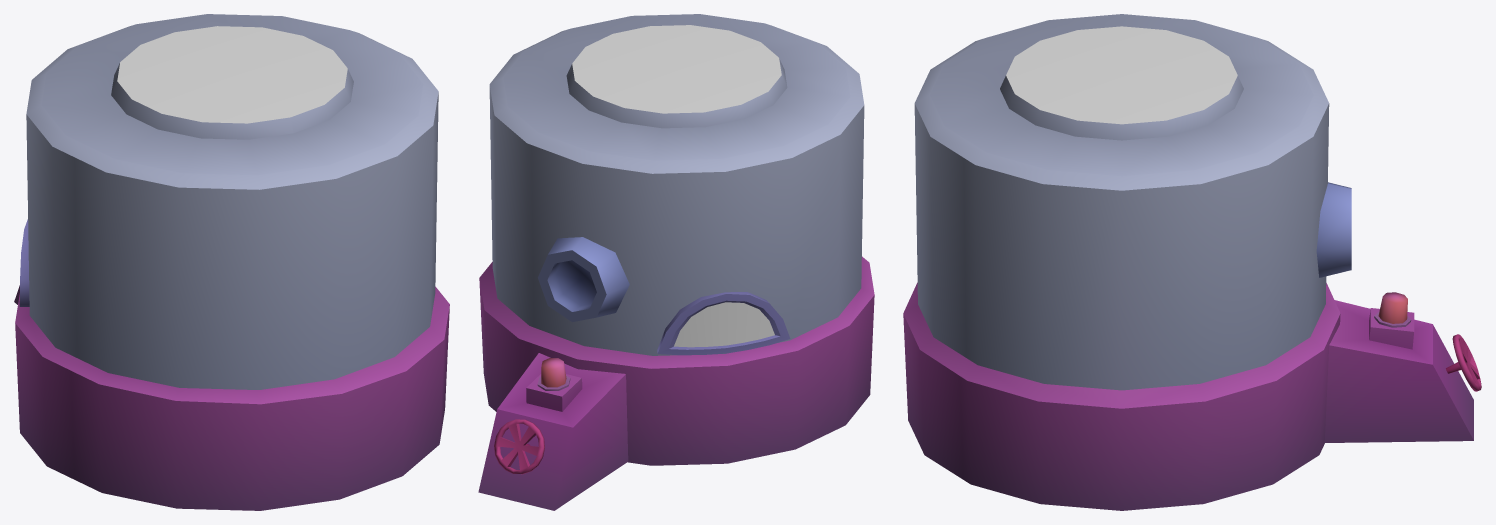
The model's file is obstacle-boiler.glb.
3 views of the same model, side by side, from view 1: azimuth 30°, elevation 25°; view 2: azimuth 150°, elevation 25°; view 3: azimuth 270°, elevation 25° (orthographic). The views are drawn at different scales.
Visible parts, largest first — view 1: obstacle-boiler; view 2: obstacle-boiler; view 3: obstacle-boiler.
Part boxes in pixels (box(x1,y1,x2,y2)): obstacle-boiler: box(14, 14, 449, 510); obstacle-boiler: box(478, 14, 874, 510); obstacle-boiler: box(903, 14, 1481, 510).
Bounding box in the file's own units: 5.28 × 4.63 × 6.99.
